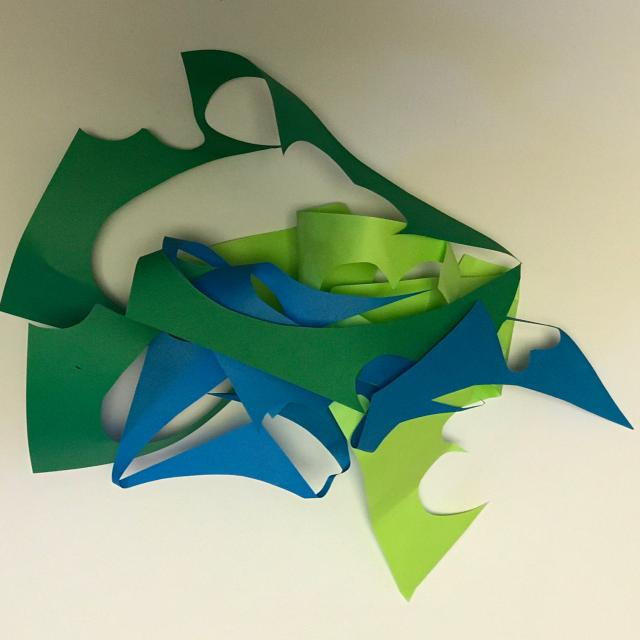Paper: (4, 39, 639, 607)
